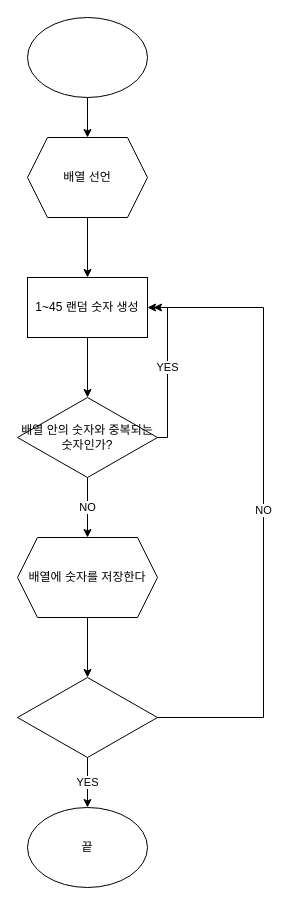
The diagram is 289 pixels wide and 905 high, and some of its shapes have lost their labels. Each missing label, with the box of its shape:
배열의 개수가 6개인가?: (16, 676, 158, 758)
시작: (26, 16, 148, 98)
